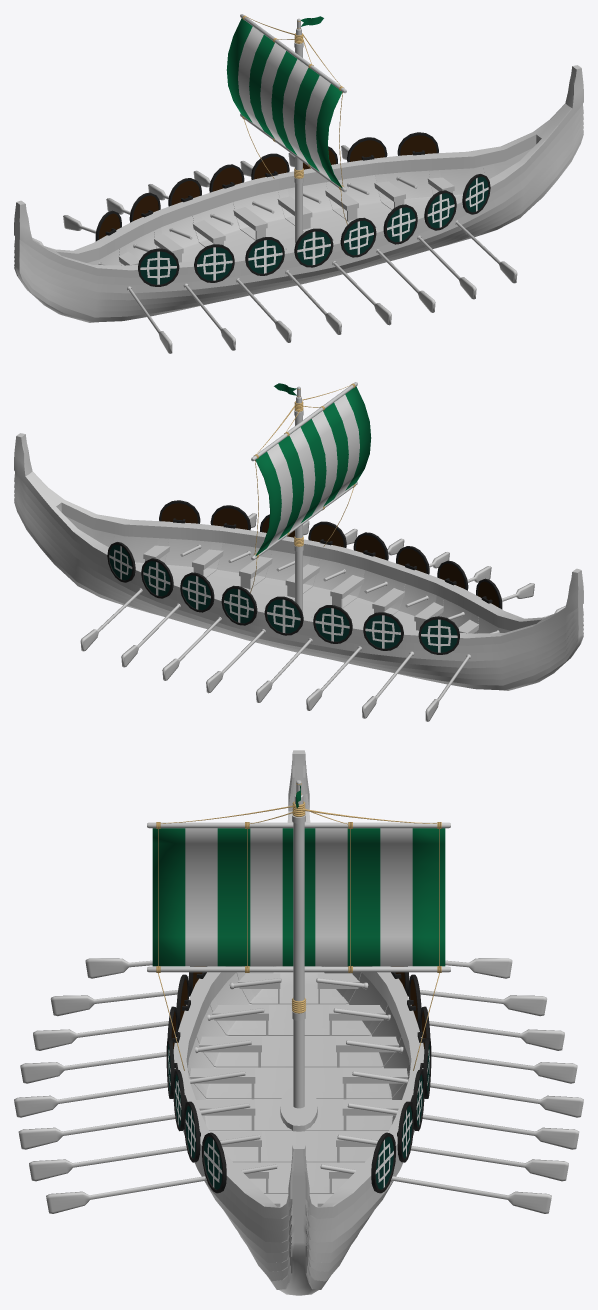
File: Viking_Longboat_1.obj
3 views of the same model, one above another, from view 1: azimuth 30°, elevation 25°; view 2: azimuth 150°, elevation 25°; view 3: azimuth 270°, elevation 25° (orthographic). The views are drawn at different scales.
Visible parts, largest first — view 1: Longboat, Shield, Sail, Bench, Mast_Main, Oar.002, Oar.003, Oar.004, Oar.005, Oar.006, Oar.008, Oar.007 (+2 smaller); view 2: Longboat, Shield, Sail, Bench, Mast_Main, Oar.002, Oar.003, Oar.004, Oar.005, Oar.006, Oar.008, Oar.007 (+2 smaller); view 3: Longboat, Sail, Bench, Shield, Mast_Main, Oar.005, Oar.006, Oar.004, Oar.007, Oar.008, Oar.003, Oar.002 (+4 smaller).
Part boxes in pixels (x1,y1,x2,y2): Longboat: (14, 65, 583, 322); Shield: (95, 132, 490, 286); Sail: (226, 18, 342, 188); Bench: (119, 177, 454, 265); Mast_Main: (294, 18, 303, 242); Oar.002: (63, 215, 235, 350); Oar.003: (106, 198, 291, 342); Oar.004: (148, 184, 341, 334); Oar.005: (193, 170, 391, 325); Oar.006: (240, 160, 435, 312); Oar.008: (341, 145, 517, 283); Oar.007: (288, 153, 476, 299); Longboat: (14, 433, 583, 690); Shield: (107, 500, 502, 654); Sail: (255, 386, 371, 556); Bench: (143, 545, 478, 633); Mast_Main: (294, 386, 303, 610); Oar.002: (362, 583, 534, 718); Oar.003: (306, 566, 491, 710); Oar.004: (256, 552, 449, 702); Oar.005: (206, 538, 404, 693); Oar.006: (162, 528, 357, 680); Oar.008: (80, 513, 256, 651); Oar.007: (121, 521, 309, 667); Longboat: (173, 750, 424, 1295); Sail: (152, 828, 445, 966); Bench: (189, 973, 408, 1206); Shield: (166, 966, 431, 1193); Mast_Main: (292, 780, 305, 1108); Oar.005: (14, 1071, 583, 1117); Oar.006: (18, 1103, 579, 1149); Oar.004: (20, 1040, 577, 1083); Oar.007: (29, 1134, 568, 1181); Oar.008: (46, 1164, 551, 1213); Oar.003: (33, 1008, 564, 1050); Oar.002: (50, 978, 547, 1016).
Size of the model in its own units: 3.16 by 1.34 by 1.9.
